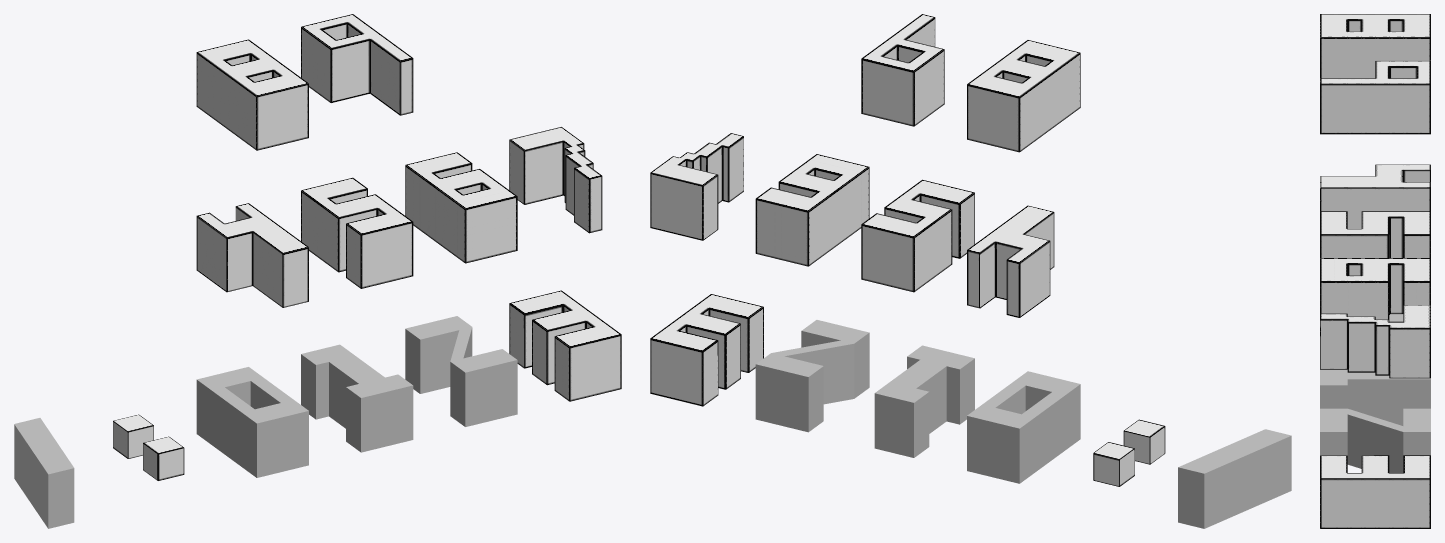
The model's file is cd5-nums.dae.
The picture shows the model from 3 angles, left to right: view 1: azimuth 30°, elevation 25°; view 2: azimuth 150°, elevation 25°; view 3: azimuth 270°, elevation 25°; orthographic projection. The views are drawn at different scales.
Parts seen in each view (by area): view 1: num_8, num_0, num_6, num_3, num_5, num_2, num_1, num_4, num_9, num_7, slash, colon; view 2: num_6, num_8, num_0, num_5, num_3, num_2, num_1, slash, num_4, num_7, num_9, colon; view 3: num_3, num_9, num_7, num_8, num_6, num_2, num_5, num_4, num_1.
Boxes of the visible parts, bbox=[...] form: num_8: bbox=[196, 39, 308, 150]; num_0: bbox=[196, 367, 308, 477]; num_6: bbox=[405, 152, 517, 263]; num_3: bbox=[509, 290, 621, 401]; num_5: bbox=[301, 177, 413, 288]; num_2: bbox=[405, 316, 517, 426]; num_1: bbox=[301, 344, 413, 452]; num_4: bbox=[196, 203, 308, 307]; num_9: bbox=[301, 14, 413, 115]; num_7: bbox=[509, 127, 602, 233]; slash: bbox=[14, 418, 74, 528]; colon: bbox=[113, 414, 184, 480]; num_6: bbox=[755, 154, 869, 266]; num_8: bbox=[967, 40, 1080, 152]; num_0: bbox=[967, 371, 1080, 483]; num_5: bbox=[861, 179, 974, 292]; num_3: bbox=[650, 294, 763, 406]; num_2: bbox=[755, 320, 869, 432]; num_1: bbox=[874, 345, 974, 457]; slash: bbox=[1178, 429, 1291, 528]; num_4: bbox=[967, 205, 1054, 317]; num_7: bbox=[650, 133, 743, 240]; num_9: bbox=[861, 14, 944, 126]; colon: bbox=[1093, 419, 1165, 486]; num_3: bbox=[1320, 455, 1430, 528]; num_9: bbox=[1320, 60, 1430, 134]; num_7: bbox=[1320, 305, 1430, 378]; num_8: bbox=[1320, 14, 1430, 78]; num_6: bbox=[1320, 258, 1430, 319]; num_2: bbox=[1320, 408, 1430, 472]; num_5: bbox=[1320, 211, 1430, 257]; num_4: bbox=[1320, 164, 1430, 228]; num_1: bbox=[1320, 369, 1430, 425].
Size of the model in its own units: 11 by 2 by 7.
